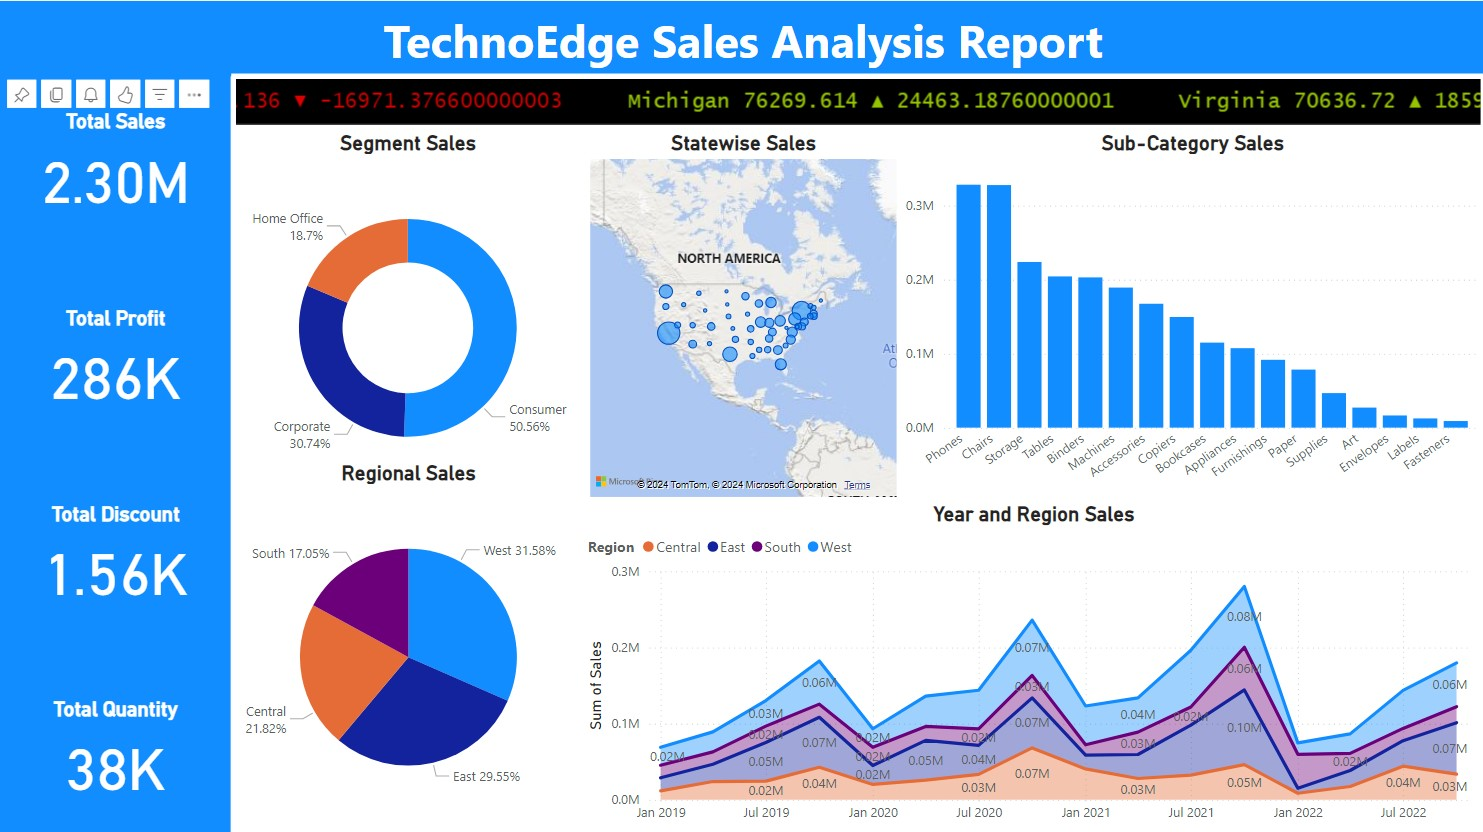

Layout of this report page (visuals, bound fields, positions):
{"tool":"powerbi","page":{"name":"Page 1","canvas":[1400,800],"ordinal":0},"visuals":[{"type":"shape","box":[0,0,1400.7,71.3],"z":0},{"type":"shape","box":[0,0,217.5,800],"z":1000},{"type":"card","title":"Total Sales","fields":{"Values":["Sum(TechnoEdge Monthy Sales Data.Sales)"]},"box":[20.3,103,178.1,101.7],"z":2000},{"type":"card","title":"Total Profit","fields":{"Values":["Sum(TechnoEdge Monthy Sales Data.Profit)"]},"box":[20.3,287.4,178.1,101.7],"z":3000},{"type":"card","title":"Total Discount","fields":{"Values":["Sum(TechnoEdge Monthy Sales Data.Discount)"]},"box":[20.3,471.8,178.1,101.7],"z":4000},{"type":"card","title":"Total Quantity","fields":{"Values":["Sum(TechnoEdge Monthy Sales Data.Quantity)"]},"box":[20.3,656.3,178.1,101.7],"z":5000},{"type":"donutChart","title":"Segment Sales","fields":{"Y":["Sum(TechnoEdge Monthy Sales Data.Sales)"],"Category":["TechnoEdge Monthy Sales Data.Segment"]},"box":[217.5,122.1,333.2,349.7],"z":6000},{"type":"pieChart","title":"Regional Sales","fields":{"Y":["Sum(TechnoEdge Monthy Sales Data.Sales)"],"Category":["TechnoEdge Monthy Sales Data.Region"]},"box":[218.8,433.7,331.9,348.5],"z":7000},{"type":"columnChart","title":"Sub-Category Sales","fields":{"Y":["Sum(TechnoEdge Monthy Sales Data.Sales)"],"Category":["TechnoEdge Monthy Sales Data.Sub-Category"]},"box":[848.3,122.1,552,349.7],"z":8000},{"type":"stackedAreaChart","title":"Year and Region Sales","fields":{"Y":["Sum(TechnoEdge Monthy Sales Data.Sales)"],"Series":["TechnoEdge Monthy Sales Data.Region"],"Category":["TechnoEdge Monthy Sales Data.Order Date.Variation.Date Hierarchy.Year","TechnoEdge Monthy Sales Data.Order Date.Variation.Date Hierarchy.Quarter","TechnoEdge Monthy Sales Data.Order Date.Variation.Date Hierarchy.Month","TechnoEdge Monthy Sales Data.Order Date.Variation.Date Hierarchy.Day"]},"box":[549.4,471.8,850.8,310.3],"z":9000},{"type":"map","title":"Statewise Sales","fields":{"Category":["TechnoEdge Monthy Sales Data.State"],"Size":["Sum(TechnoEdge Monthy Sales Data.Sales)"]},"box":[550.7,122.1,298.9,349.7],"z":9001},{"type":"ScrollingTextVisual1448795304508","fields":{"Category":["TechnoEdge Monthy Sales Data.State"],"Measure Absolute":["Sum(TechnoEdge Monthy Sales Data.Sales)"],"Measure Deviation":["Sum(TechnoEdge Monthy Sales Data.Profit)"]},"box":[217.5,68.7,1182.8,53.4],"z":9002}]}

Visuals, with their boxes on the page's 1400x800 design canvas (x1, y1, x2, y2). These are canvas units, not pixel positions in the 1483x832 screenshot, which may show the page scaled, cropped or inside an application window:
shape: (0,0,1401,71)
shape: (0,0,218,800)
"Total Sales" card: (20,103,198,205)
"Total Profit" card: (20,287,198,389)
"Total Discount" card: (20,472,198,574)
"Total Quantity" card: (20,656,198,758)
"Segment Sales" donutChart: (218,122,551,472)
"Regional Sales" pieChart: (219,434,551,782)
"Sub-Category Sales" columnChart: (848,122,1400,472)
"Year and Region Sales" stackedAreaChart: (549,472,1400,782)
"Statewise Sales" map: (551,122,850,472)
ScrollingTextVisual1448795304508 - TechnoEdge Monthy Sales Data.State x Sum(TechnoEdge Monthy Sales Data.Sales): (218,69,1400,122)
